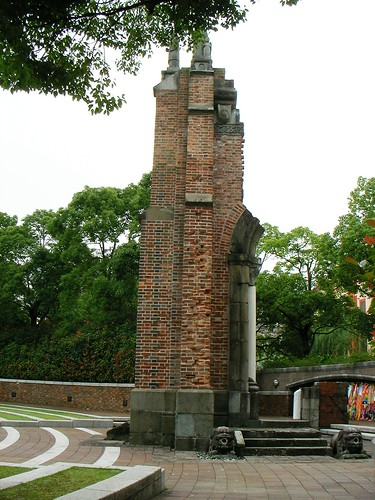building: (131, 62, 288, 448)
sky: (3, 1, 375, 185)
tree: (271, 212, 354, 349)
vegetation: (1, 184, 139, 374)
